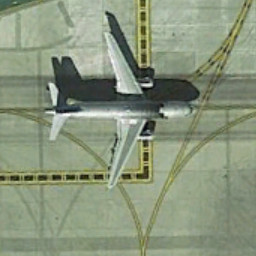Airplane: (23, 20, 207, 193)
